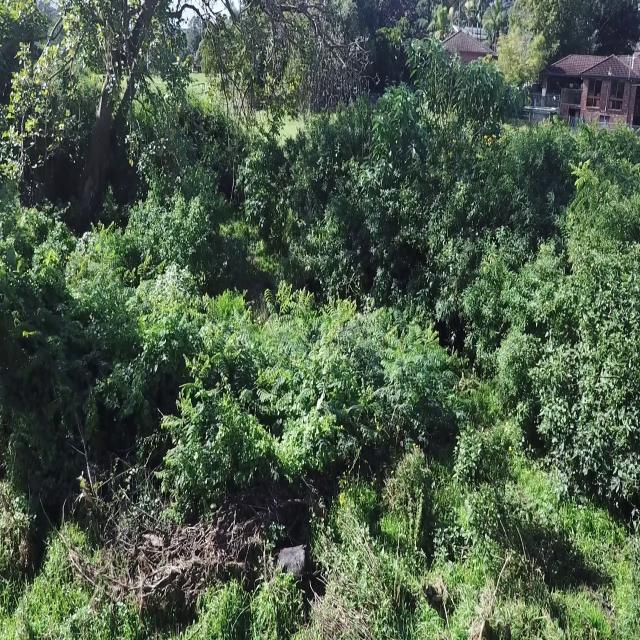Mysore-Thorn-Weed: (383, 294, 469, 454), (155, 378, 225, 514), (71, 208, 133, 348), (320, 289, 388, 379), (242, 373, 351, 428), (259, 278, 316, 371), (200, 285, 259, 368), (560, 152, 619, 232)
